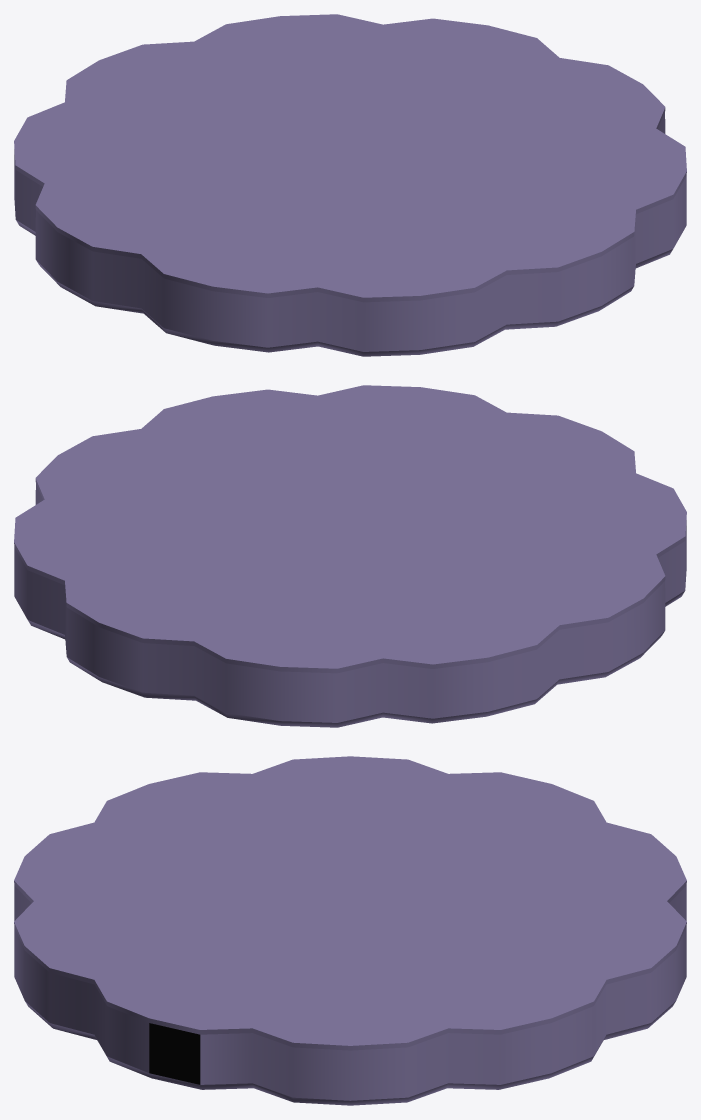
Rendered from Brick.fbx.
3 renders of one model, top to bottom at view 1: azimuth 30°, elevation 25°; view 2: azimuth 150°, elevation 25°; view 3: azimuth 270°, elevation 25°, orthographic.
Visible parts, largest first — view 1: SmallBrick; view 2: SmallBrick; view 3: SmallBrick.
Boxes of the visible parts, x1=… form: SmallBrick: x1=14, y1=14, x2=686, y2=356; SmallBrick: x1=14, y1=385, x2=686, y2=727; SmallBrick: x1=14, y1=756, x2=686, y2=1105.
Size of the model in its own units: 177 by 17.51 by 174.
